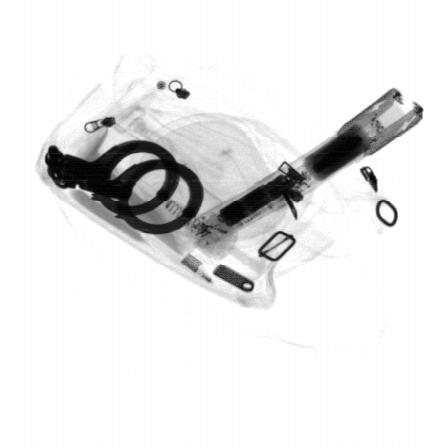Baton: (185, 87, 426, 247)
HandCuffs: (42, 139, 205, 237)
